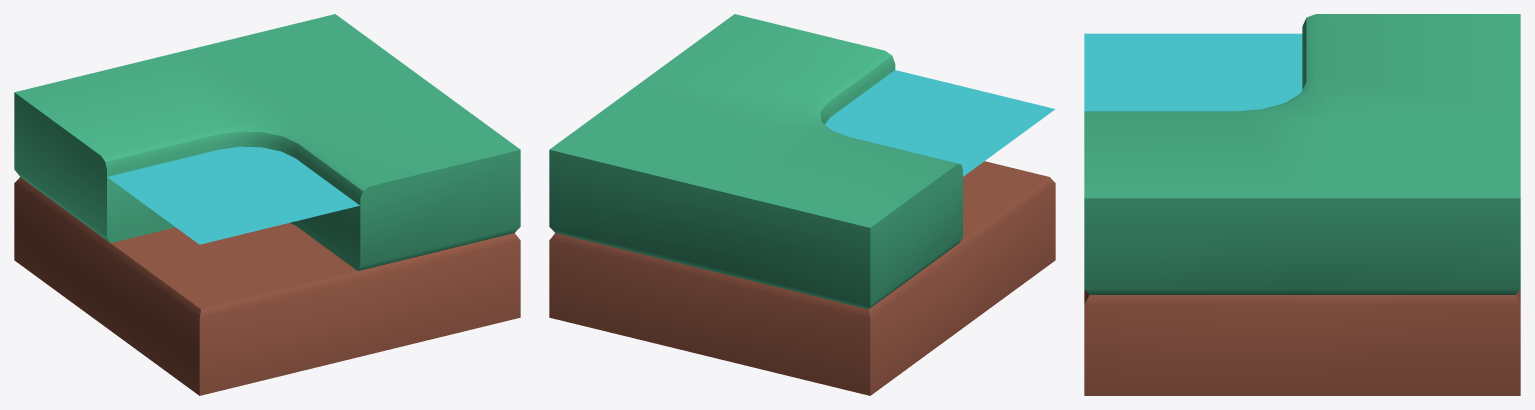
Rendered from square_forest_waterInnerCorner_noSides.glb.
The picture shows the model from 3 angles, left to right: view 1: azimuth 30°, elevation 25°; view 2: azimuth 150°, elevation 25°; view 3: azimuth 270°, elevation 25°; orthographic projection. The views are drawn at different scales.
Visible parts, largest first — view 1: square_forest_waterInnerCorner_noSides; view 2: square_forest_waterInnerCorner_noSides; view 3: square_forest_waterInnerCorner_noSides.
Part boxes in pixels (x1=…): square_forest_waterInnerCorner_noSides: x1=14, y1=14, x2=520, y2=395; square_forest_waterInnerCorner_noSides: x1=549, y1=14, x2=1055, y2=395; square_forest_waterInnerCorner_noSides: x1=1084, y1=14, x2=1520, y2=395.
Bounding box in the file's own units: 2 × 1 × 2.
